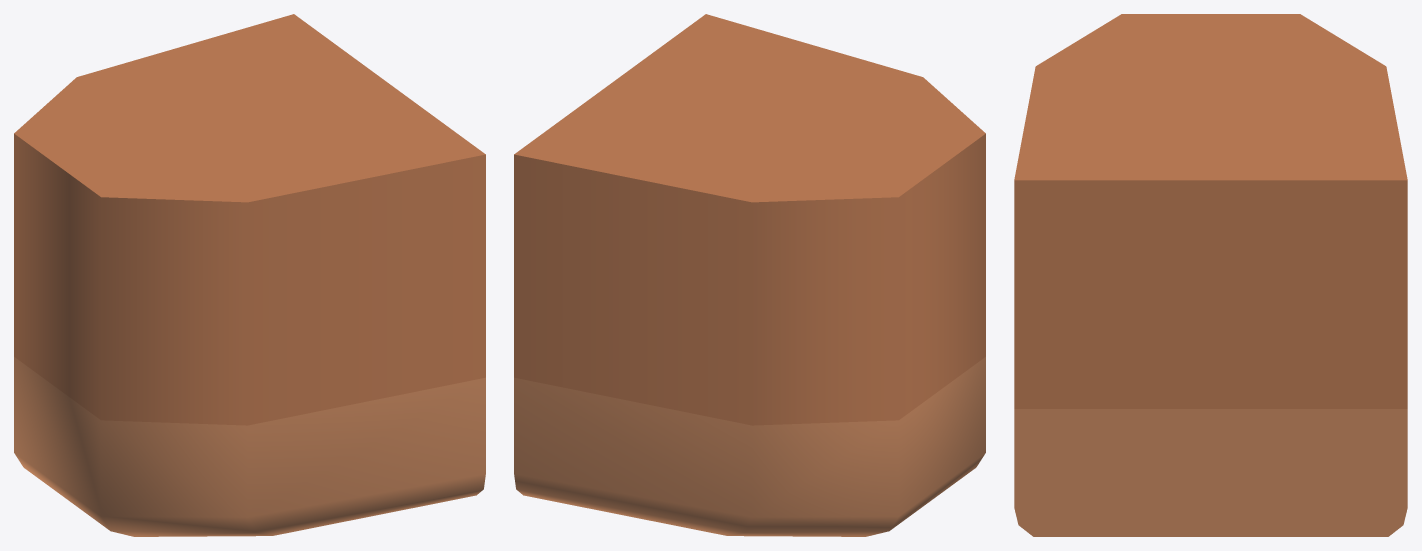
File: 01_normal_botton_left.glb
3 renders of one model, left to right at view 1: azimuth 30°, elevation 25°; view 2: azimuth 150°, elevation 25°; view 3: azimuth 270°, elevation 25°, orthographic. The views are drawn at different scales.
Visible parts, largest first — view 1: 01_normal_botton_left; view 2: 01_normal_botton_left; view 3: 01_normal_botton_left.
Part boxes in pixels (x1,y1,x2,y2): 01_normal_botton_left: (14, 14, 485, 536); 01_normal_botton_left: (514, 14, 985, 536); 01_normal_botton_left: (1014, 14, 1407, 536).
Size of the model in its own units: 0.5 by 0.5 by 0.5.
